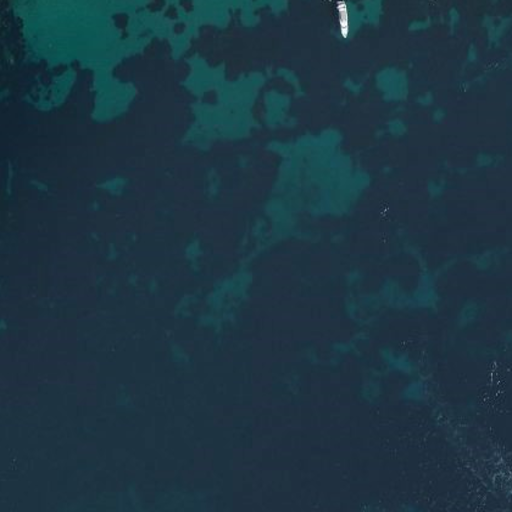ship: (335, 1, 351, 42)
